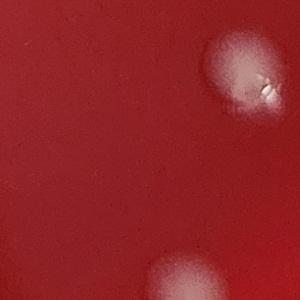colony: (193, 24, 295, 124), (138, 246, 234, 300)
